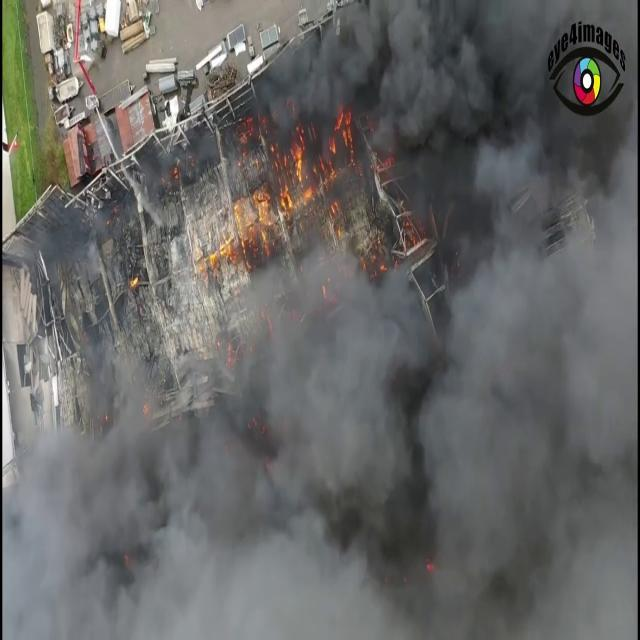Fire: (207, 153, 319, 281)
Smoke: (12, 224, 625, 640), (251, 1, 640, 233)
